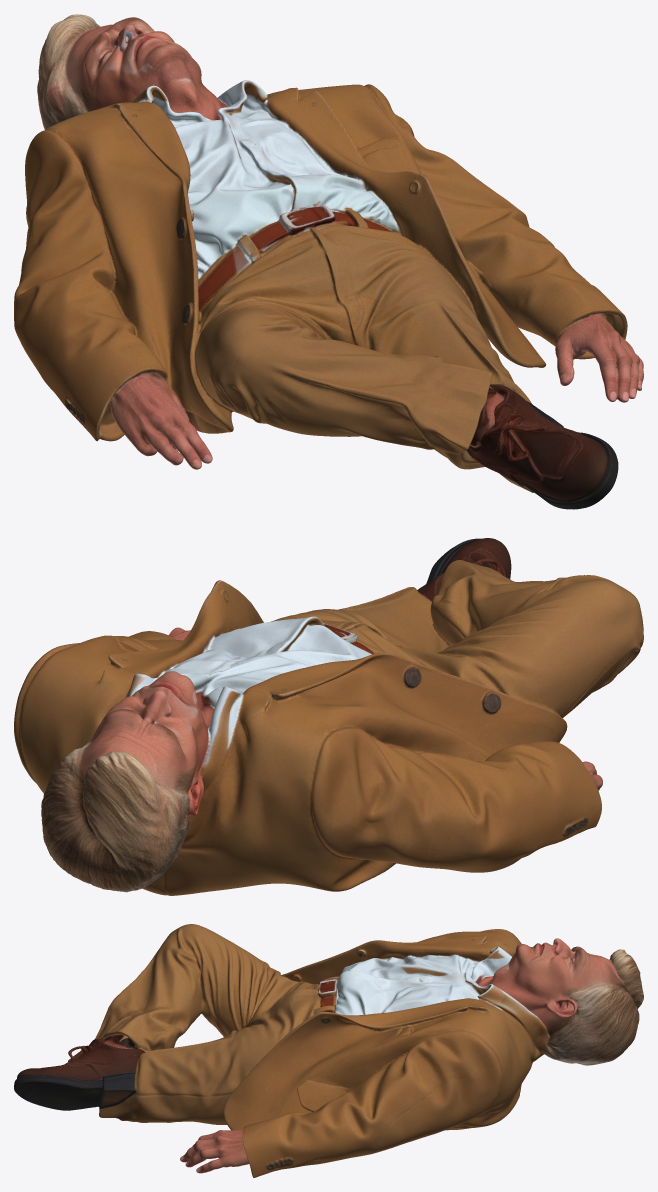
The model's file is ceo_dead.glb.
The picture shows the model from 3 angles, top to bottom: view 1: azimuth 30°, elevation 25°; view 2: azimuth 150°, elevation 25°; view 3: azimuth 270°, elevation 25°; orthographic projection. The views are drawn at different scales.
Visible parts, largest first — view 1: mesh_node; view 2: mesh_node; view 3: mesh_node.
Boxes of the visible parts, bbox=[...] form: mesh_node: bbox=[14, 14, 643, 509]; mesh_node: bbox=[14, 538, 643, 895]; mesh_node: bbox=[14, 924, 643, 1177].
Size of the model in its own units: 1.17 by 0.5403 by 1.9.
1 material, 1 textured.
